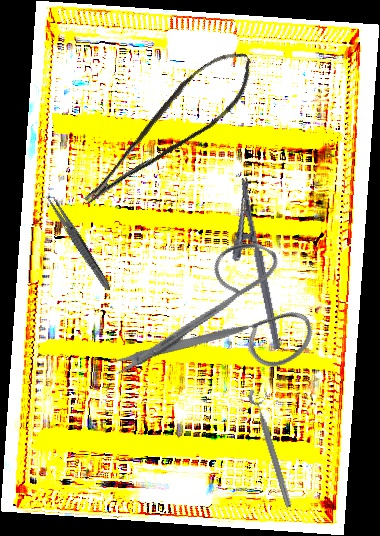Dressing Forceps: (43, 192, 114, 293)
Fixation Ring: (246, 384, 302, 510)
Iris Scissors: (106, 208, 340, 448)
Micro Scissor: (60, 40, 269, 211)
Needle Holder: (217, 176, 282, 355)
